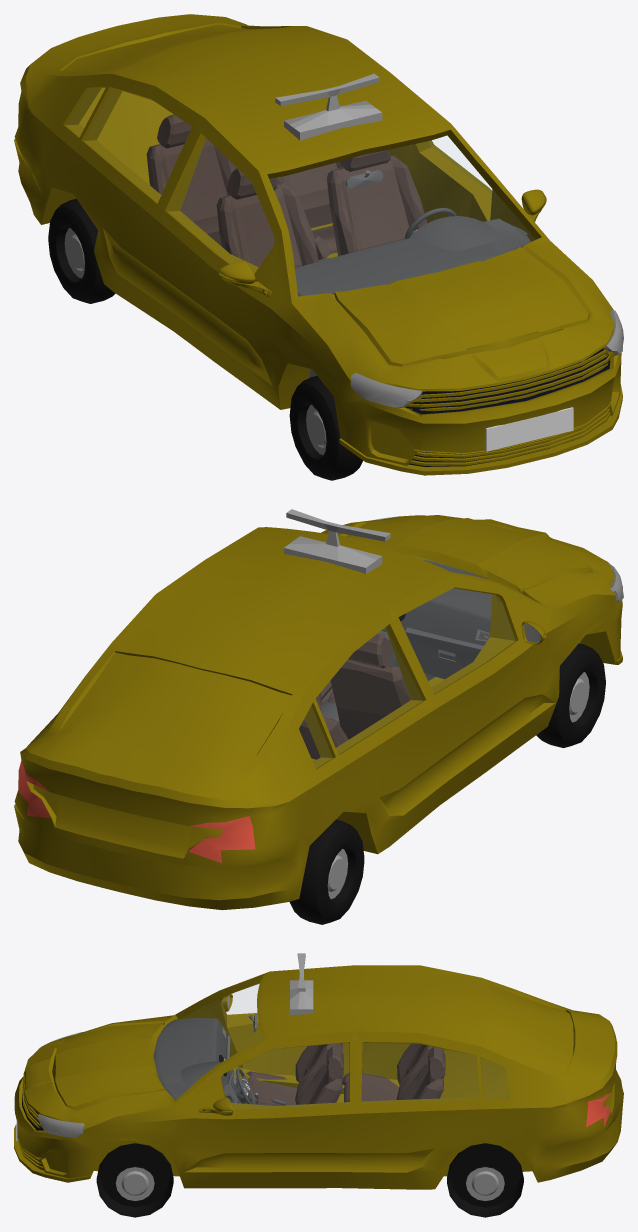
The model's file is taxi.fbx.
3 renders of one model, top to bottom at view 1: azimuth 30°, elevation 25°; view 2: azimuth 150°, elevation 25°; view 3: azimuth 270°, elevation 25°, orthographic. The views are drawn at different scales.
Parts seen in each view (by area): view 1: Main Car, seat, VehicleModel, plaka.001, sideMirror.001; view 2: Main Car, seat, VehicleModel, torpedo_cover; view 3: Main Car, seat, VehicleModel, steeringWheel, sideMirror.
Boxes of the visible parts, x1=… form: Main Car: x1=14, y1=14, x2=623, y2=480; seat: x1=146, y1=114, x2=427, y2=267; VehicleModel: x1=294, y1=216, x2=533, y2=377; plaka.001: x1=485, y1=407, x2=573, y2=451; sideMirror.001: x1=219, y1=261, x2=271, y2=297; Main Car: x1=14, y1=509, x2=623, y2=924; seat: x1=299, y1=633, x2=410, y2=759; VehicleModel: x1=320, y1=559, x2=492, y2=725; torpedo_cover: x1=405, y1=627, x2=483, y2=678; Main Car: x1=14, y1=953, x2=623, y2=1217; seat: x1=246, y1=1043, x2=445, y2=1104; VehicleModel: x1=153, y1=1018, x2=296, y2=1105; steeringWheel: x1=234, y1=1068, x2=255, y2=1104; sideMirror: x1=198, y1=1097, x2=232, y2=1115.
Bounding box in the file's own units: 221 × 179 × 494.
